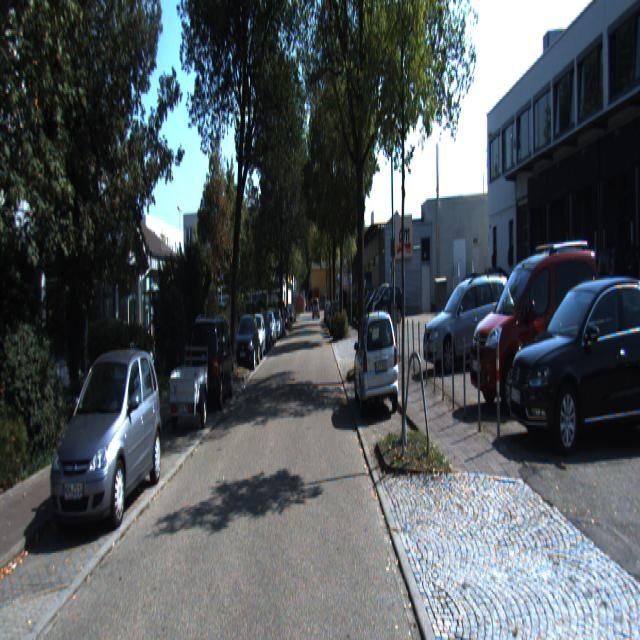Car: (466, 227, 611, 410), (502, 273, 639, 457), (51, 345, 165, 541), (421, 270, 514, 376), (352, 304, 401, 423), (190, 313, 234, 412), (594, 243, 640, 329), (166, 361, 210, 434), (234, 312, 260, 372)
